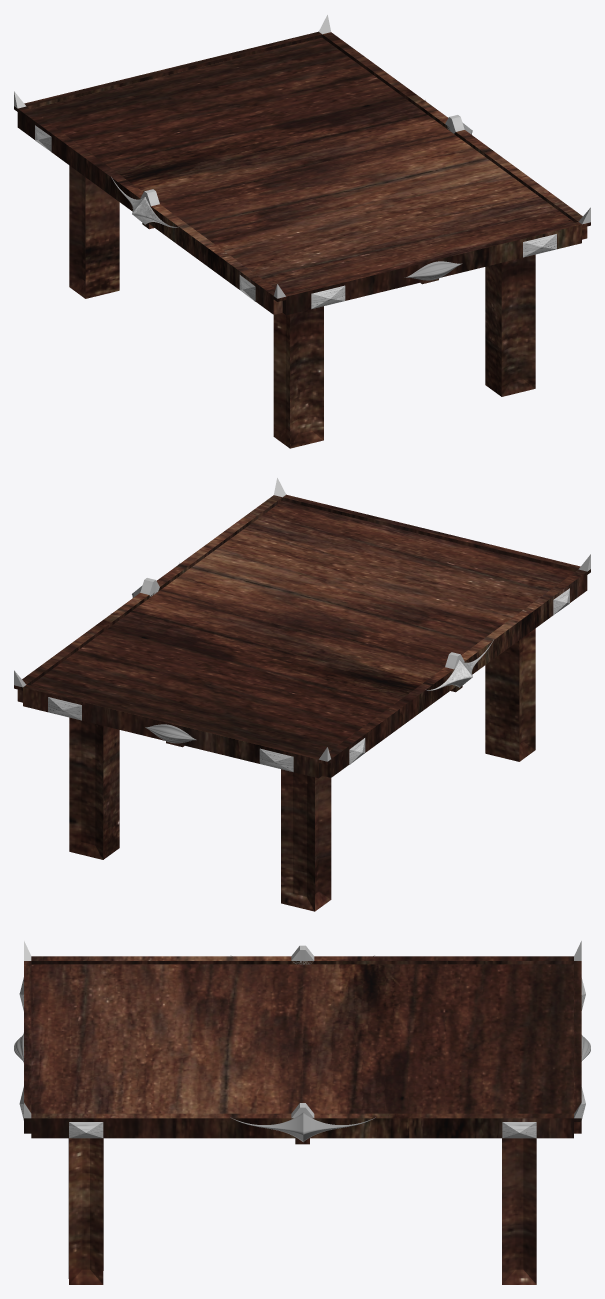
File: table.glb
3 views of the same model, one above another, from view 1: azimuth 30°, elevation 25°; view 2: azimuth 150°, elevation 25°; view 3: azimuth 270°, elevation 25° (orthographic). The views are drawn at different scales.
Parts seen in each view (by area): view 1: Cube, Cube.001, NurbsPath.002, NurbsPath; view 2: Cube, Cube.001, NurbsPath, NurbsPath.003; view 3: Cube, Cube.001, NurbsPath.001.
Part boxes in pixels (x1=…): Cube: x1=14, y1=31, x2=590, y2=448; Cube.001: x1=14, y1=15, x2=590, y2=308; NurbsPath.002: x1=405, y1=261, x2=462, y2=280; NurbsPath: x1=111, y1=177, x2=179, y2=227; Cube: x1=14, y1=494, x2=590, y2=911; Cube.001: x1=14, y1=478, x2=590, y2=771; NurbsPath: x1=425, y1=639, x2=493, y2=690; NurbsPath.003: x1=145, y1=724, x2=196, y2=743; Cube: x1=24, y1=956, x2=581, y2=1284; Cube.001: x1=19, y1=941, x2=585, y2=1138; NurbsPath.001: x1=230, y1=1112, x2=375, y2=1141.
Bounding box in the file's own units: 4.61 × 2.44 × 6.38.
Materials: 3 (2 with a texture image).
